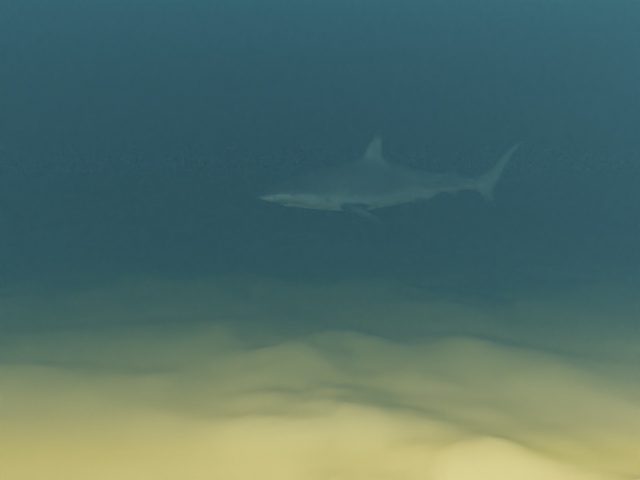Carribean Shark.001: (257, 131, 525, 224)
